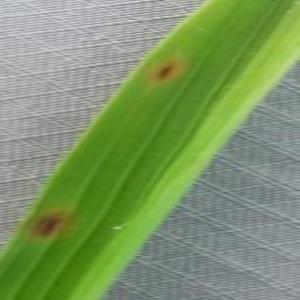Brown_Spot: (25, 204, 70, 244), (148, 55, 183, 87)
